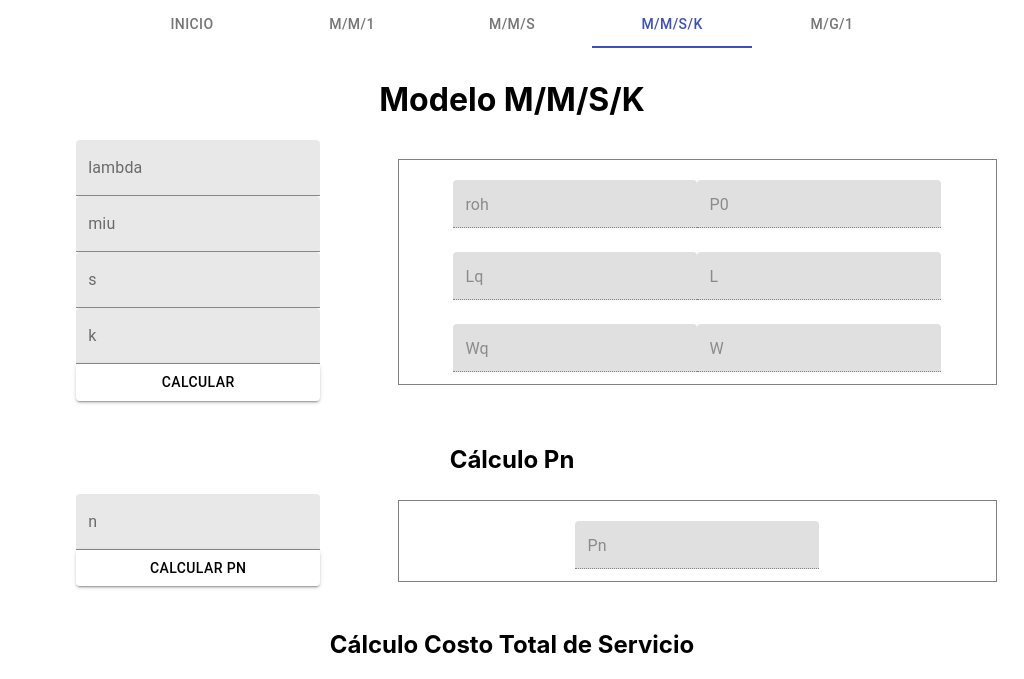
Test input validation › s larger than k error
In the number field labelled "lambda": (198, 168) [76, 140, 320, 196], type "2"
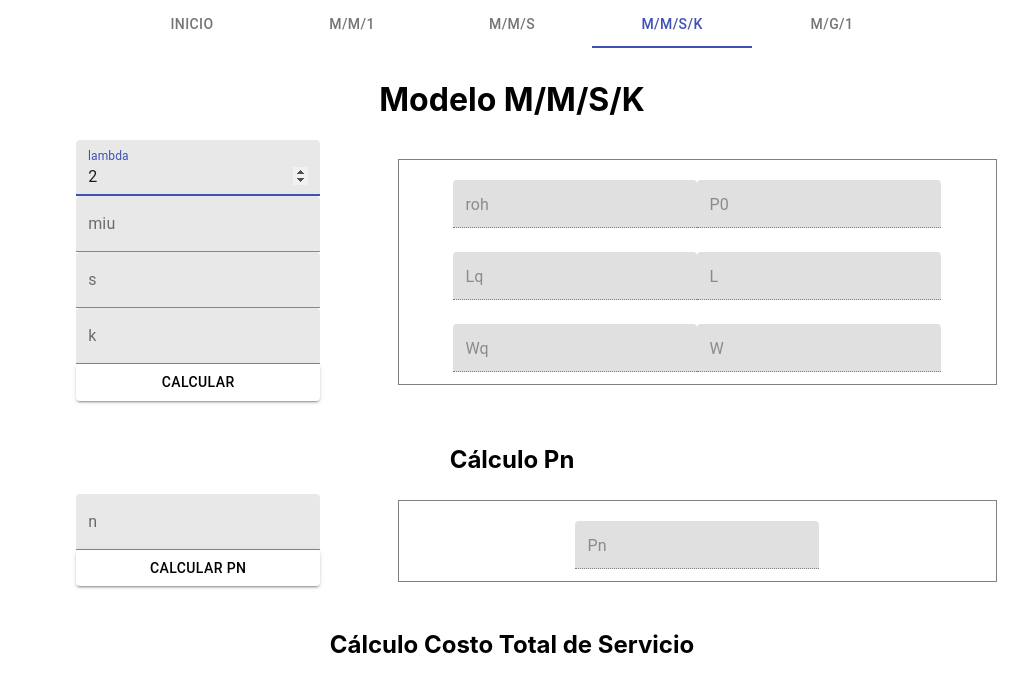
In the number field labelled "miu": (198, 224) [76, 196, 320, 252], type "3"
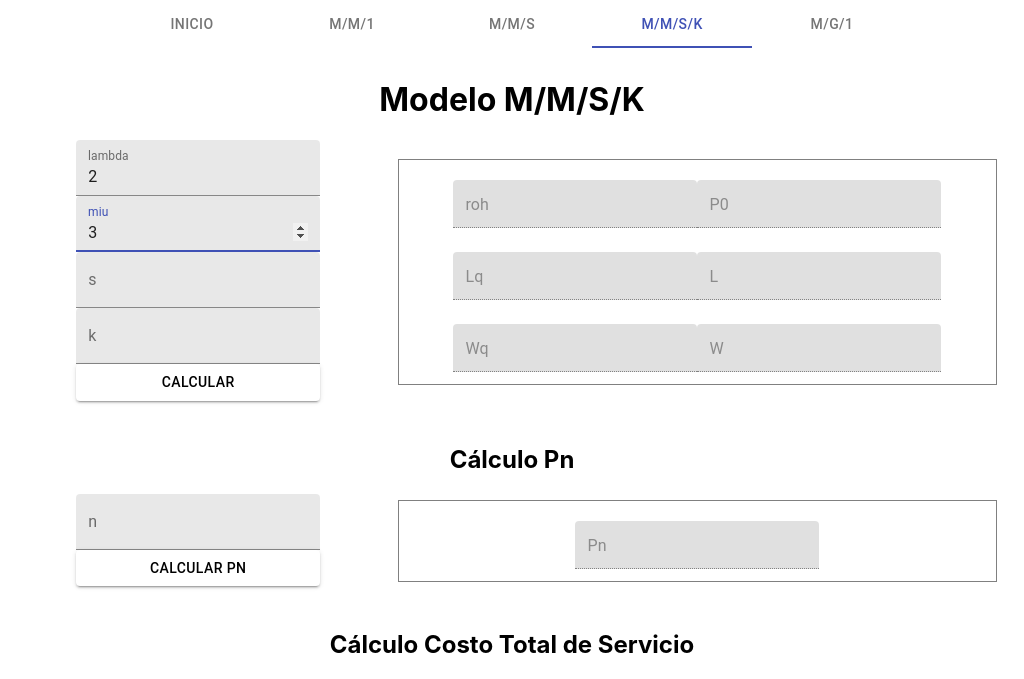
In the number field labelled "s": (198, 280) [76, 252, 320, 308], type "2"
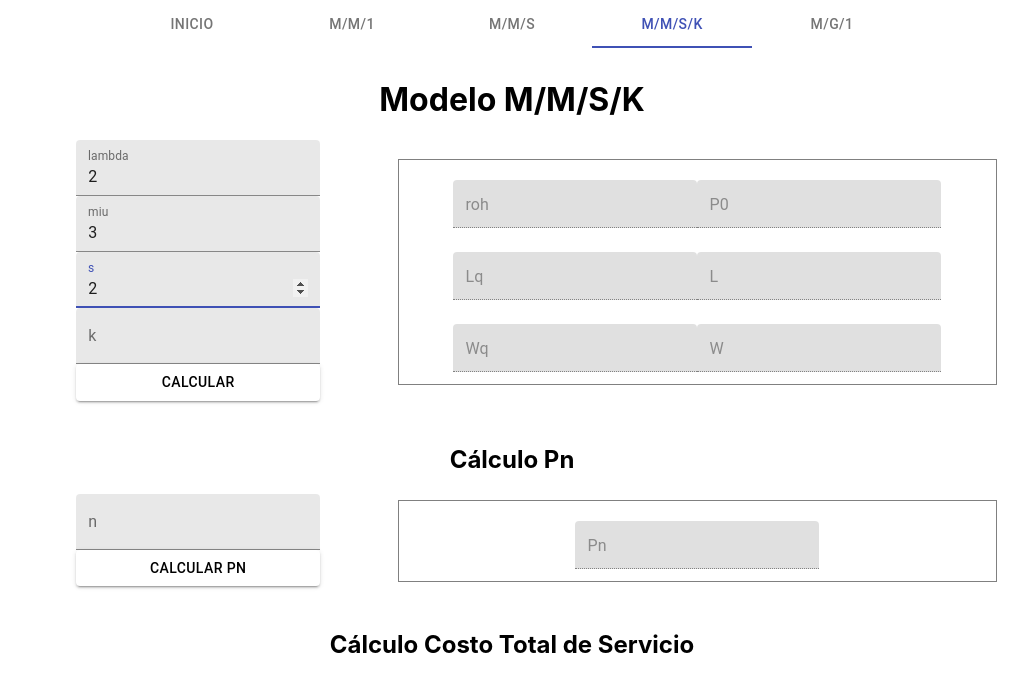
In the number field labelled "k": (198, 336) [76, 308, 320, 364], type "1"
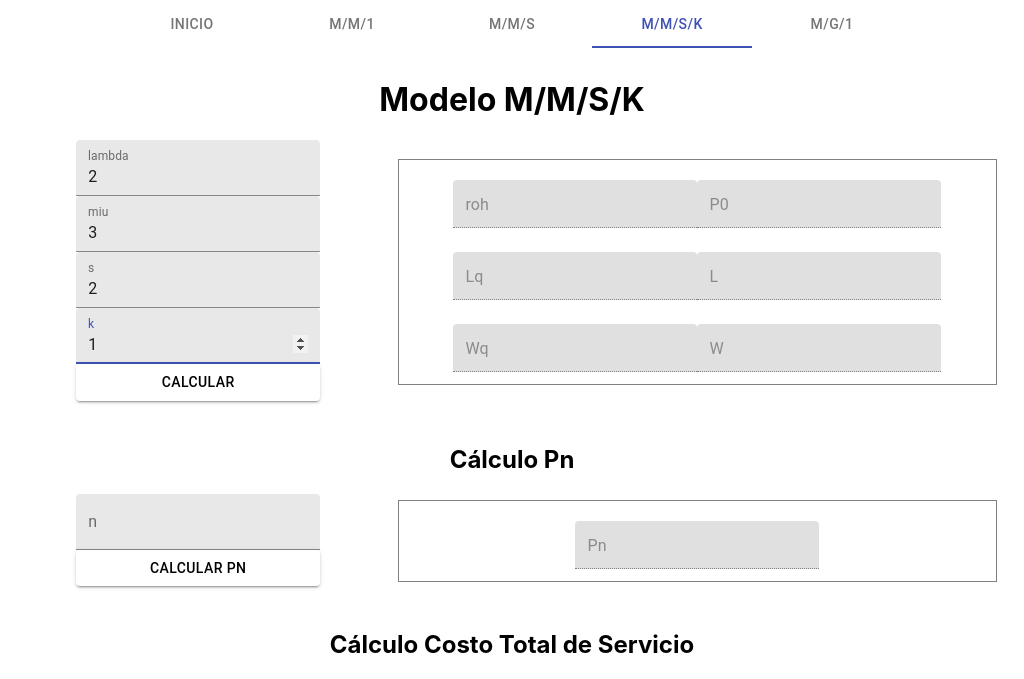
Click the button "Calcular": (198, 383) [76, 364, 320, 401]
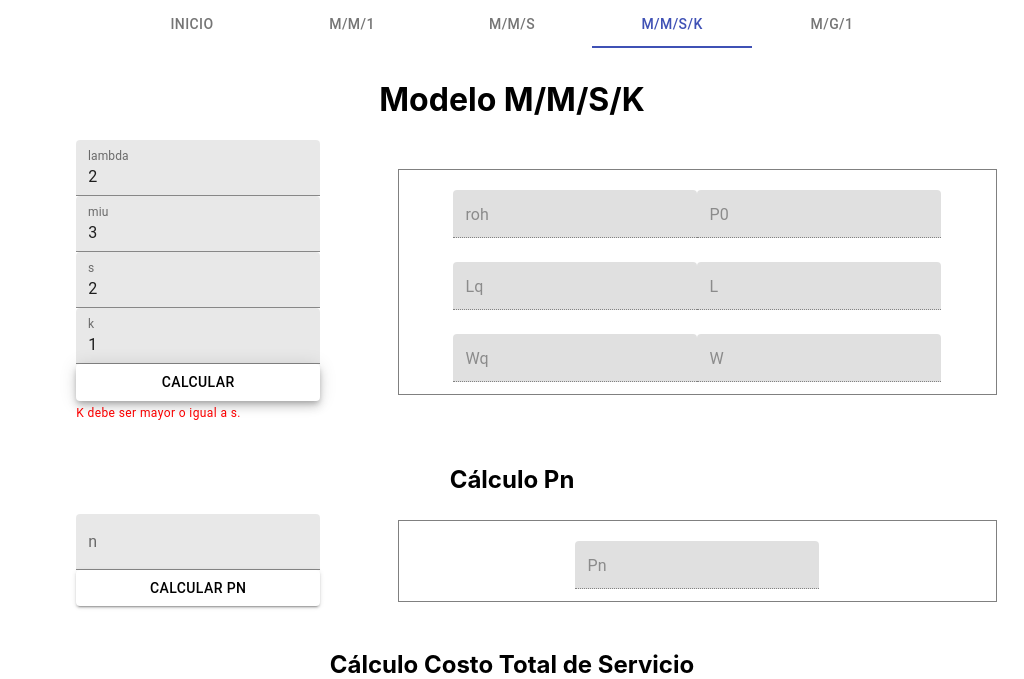
Check: the text "K debe ser mayor o igual a s." is shown, box [76, 406, 241, 420]
